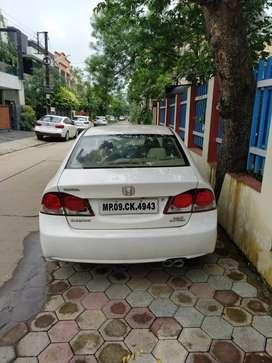MP09CK4943: (98, 198, 157, 212)
